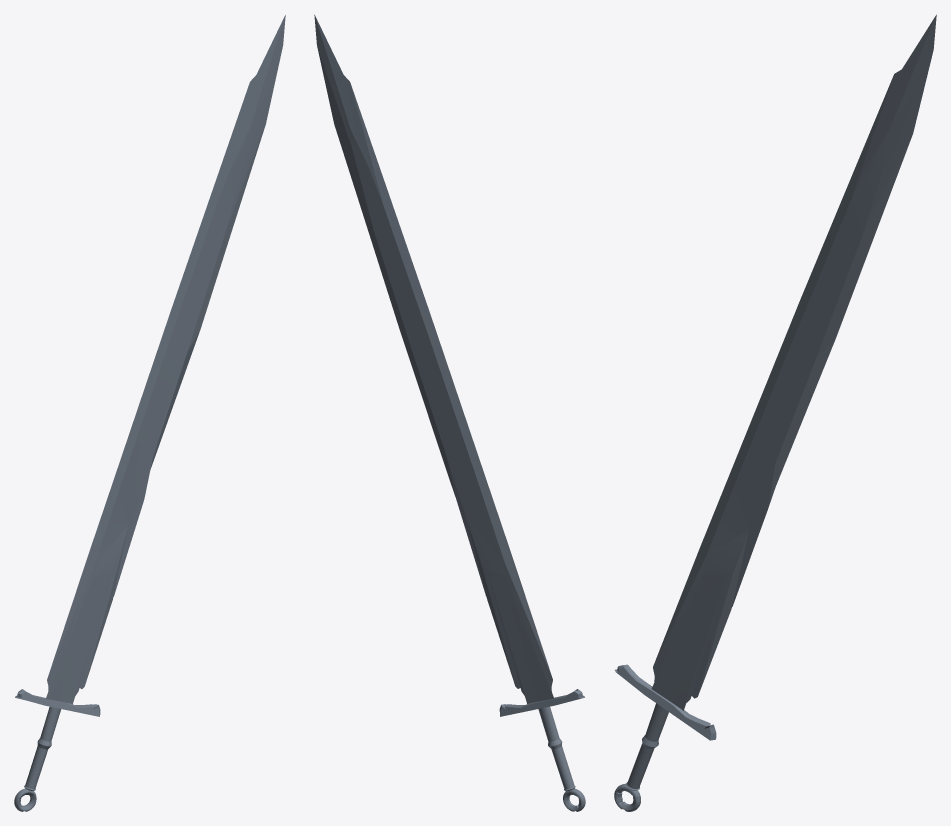
The model's file is sword.glb.
3 views of the same model, side by side, from view 1: azimuth 30°, elevation 25°; view 2: azimuth 150°, elevation 25°; view 3: azimuth 330°, elevation 25° (orthographic). The views are drawn at different scales.
Parts seen in each view (by area): view 1: Plane; view 2: Plane; view 3: Plane.
Part boxes in pixels (bbox=[...]): Plane: bbox=[14, 15, 285, 811]; Plane: bbox=[314, 14, 585, 811]; Plane: bbox=[614, 14, 936, 811].
Bounding box in the file's own units: 2.6 × 6.72 × 0.1231.
